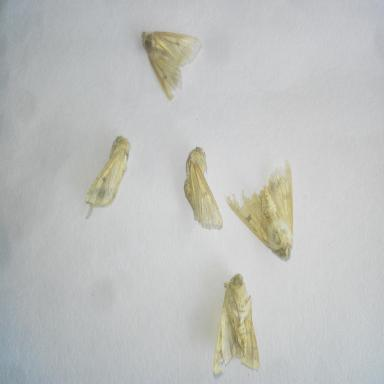abw: (224, 155, 297, 265), (210, 270, 262, 380), (138, 26, 205, 106), (80, 132, 133, 224), (179, 140, 228, 235)
